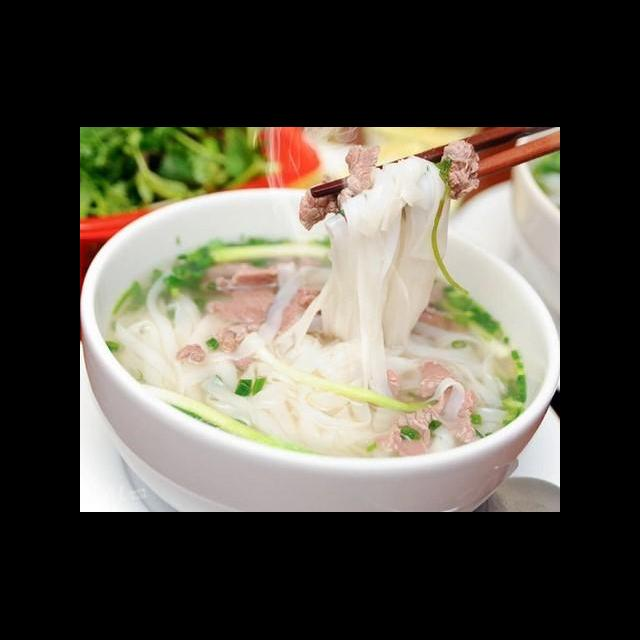banh pho: (318, 152, 451, 366), (209, 346, 400, 464), (103, 264, 213, 414), (437, 320, 517, 440)
pho bo: (83, 165, 560, 512)
thit bo: (375, 358, 478, 458), (293, 138, 385, 234), (211, 260, 285, 356), (431, 132, 483, 204)
